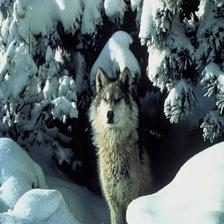WOLF: (90, 66, 148, 224)
